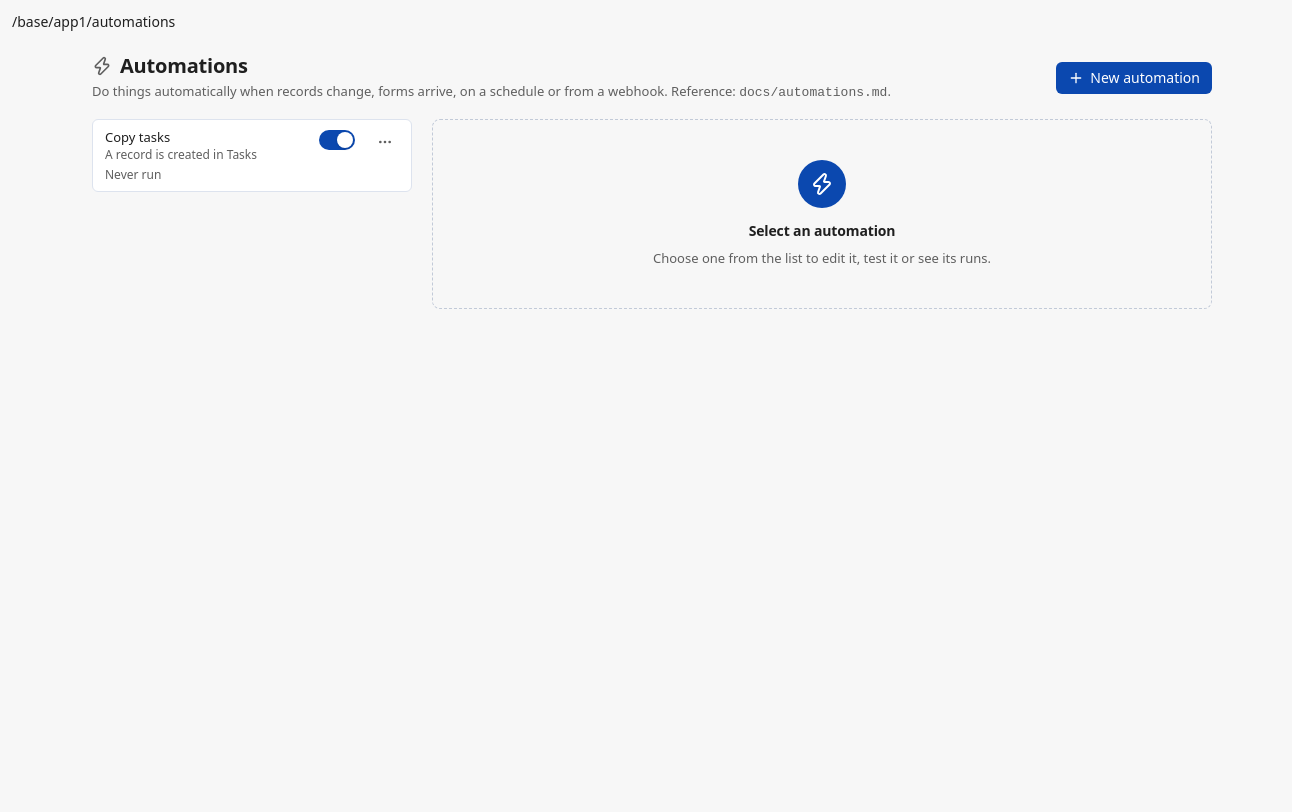
Test case: the list › tells you when the server refuses to turn one on
Click the switch named "Turn off Copy tasks" at point(337, 140), box [319,130,355,150]
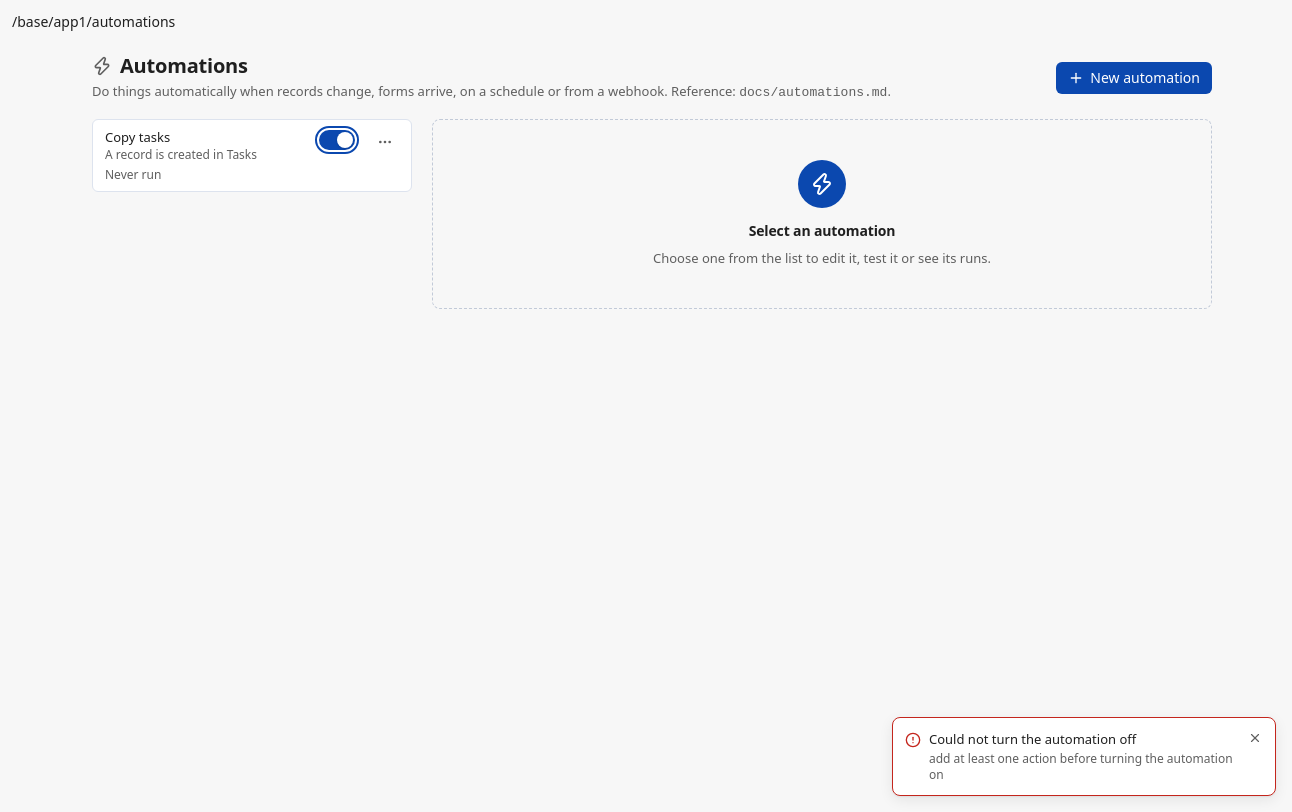
Check: the text "Could not turn the automation off" is shown, box [929,730,1136,748]
